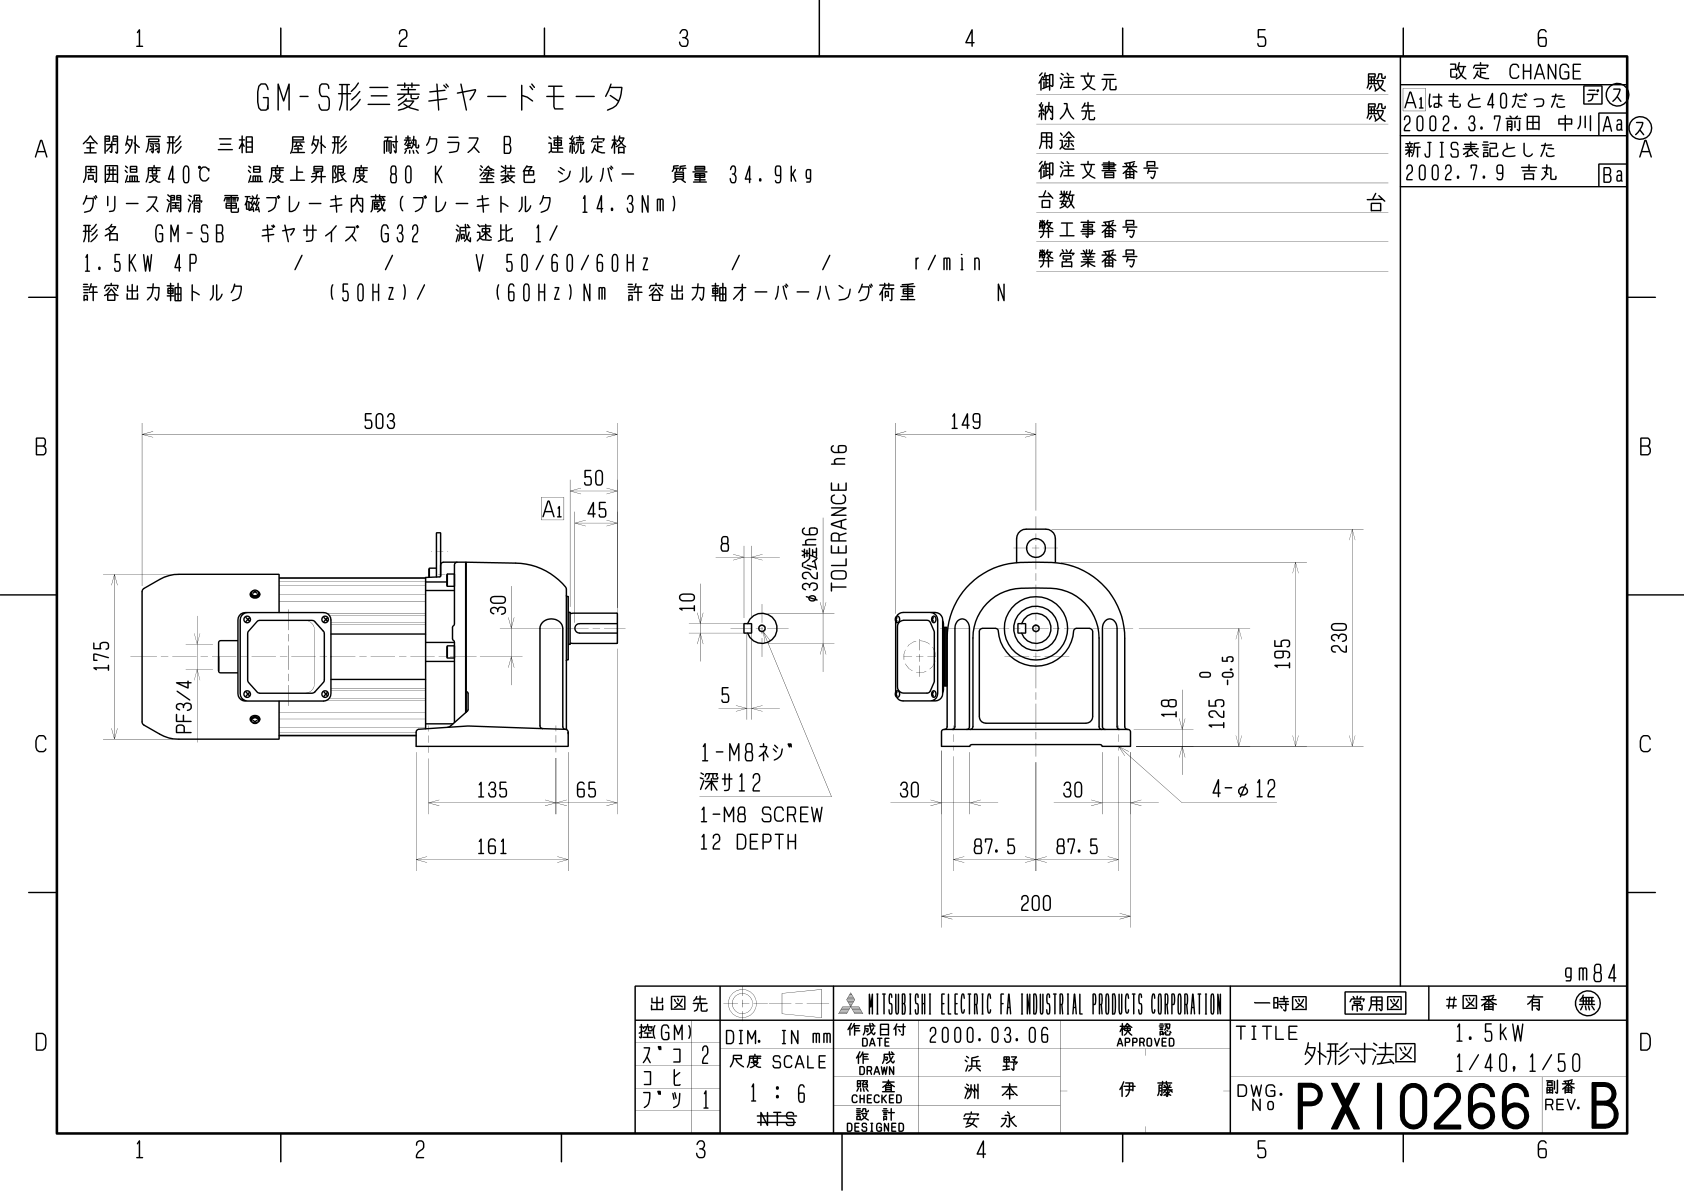GM_S_屋外＿三相_脚: (81, 361, 1383, 955)
